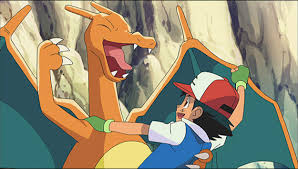charizard: (1, 3, 297, 168)
